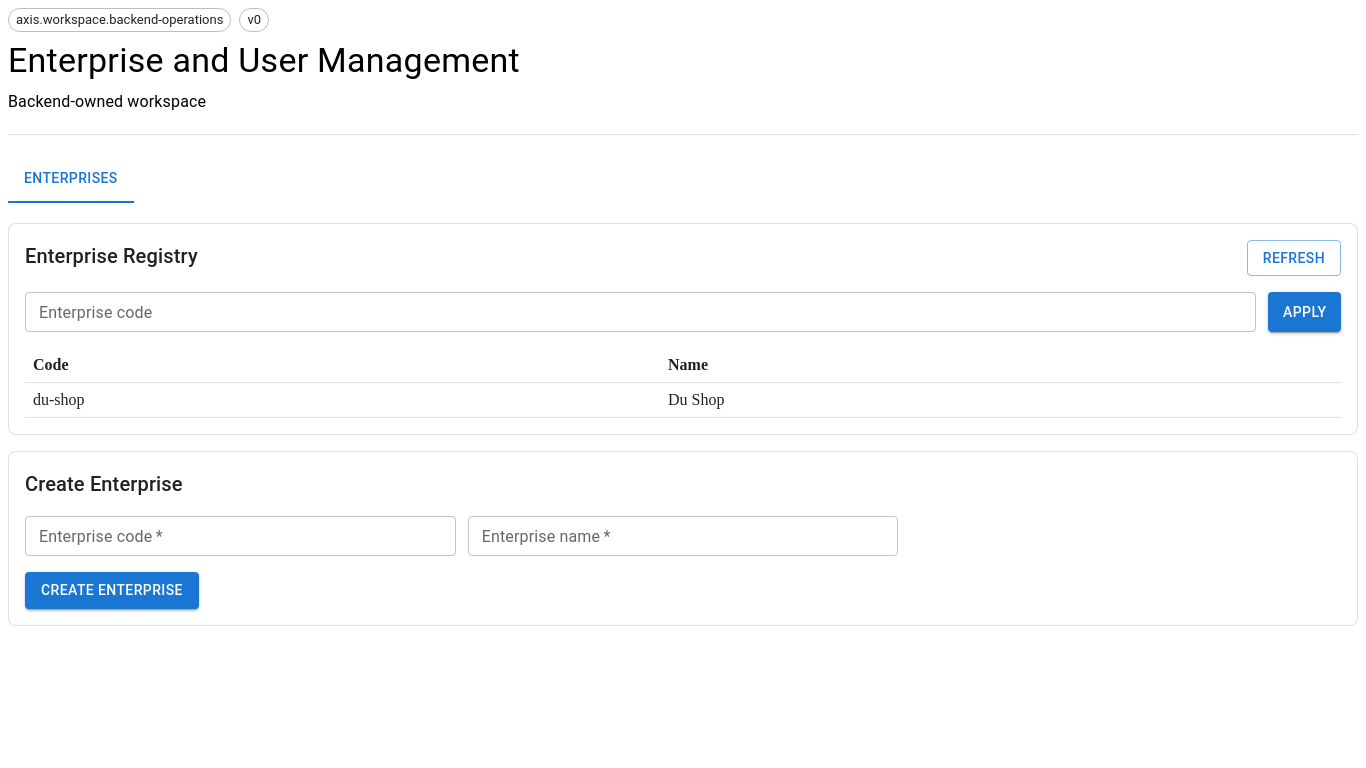
Scenario: BackendOperationsWorkspaceRoutePage › renders backend-provided listings and posts backend-provided forms
The image size is (1366, 768).
Expected: the text "Du Shop" is shown, [660,383,1341,418]
Expected: the heading "Create Enterprise" is shown, [25,472,183,496]
Click the button "Create enterprise" at [112, 591], box [25,572,199,609]
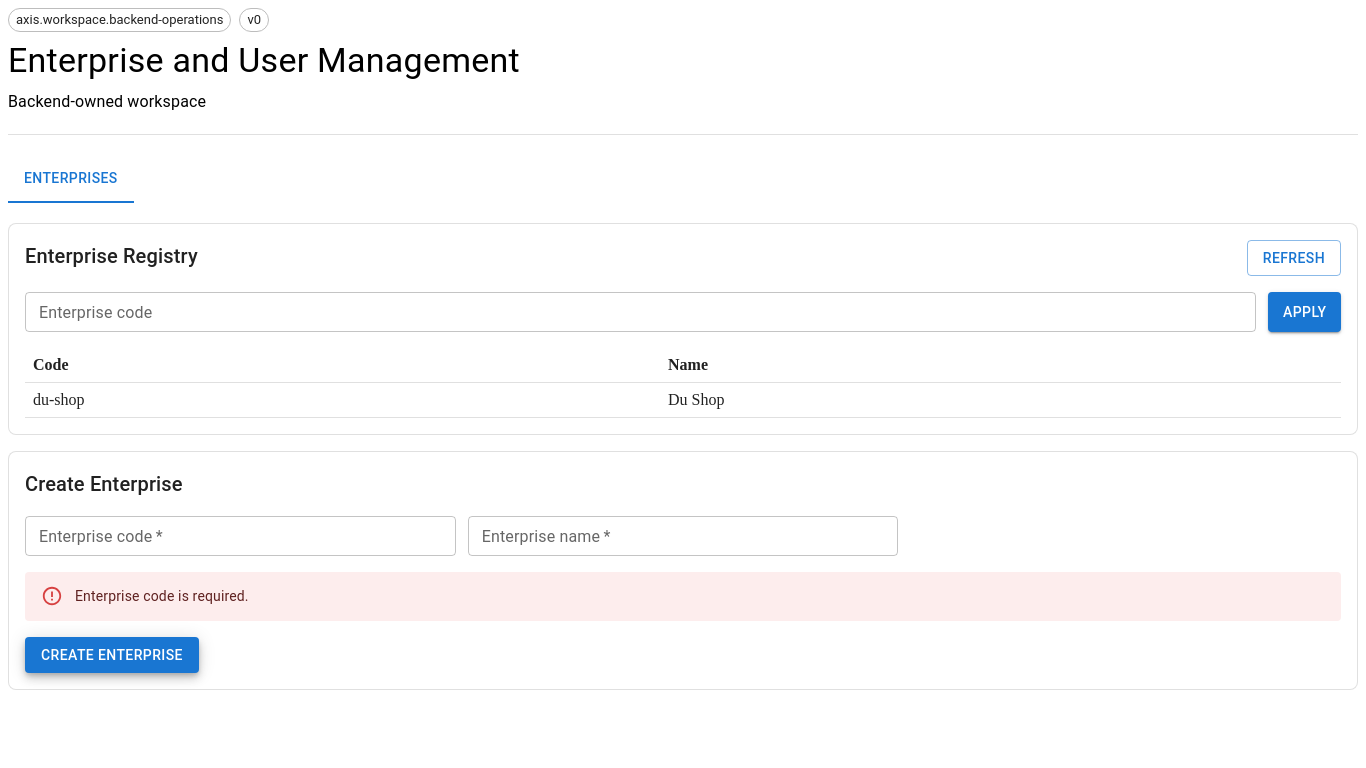
Now the text "Enterprise code is required." is shown, box [75,588,249,604]
Type "i2e" into the field labelled "Enterprise code" at [240, 536], box [25,516,456,556]
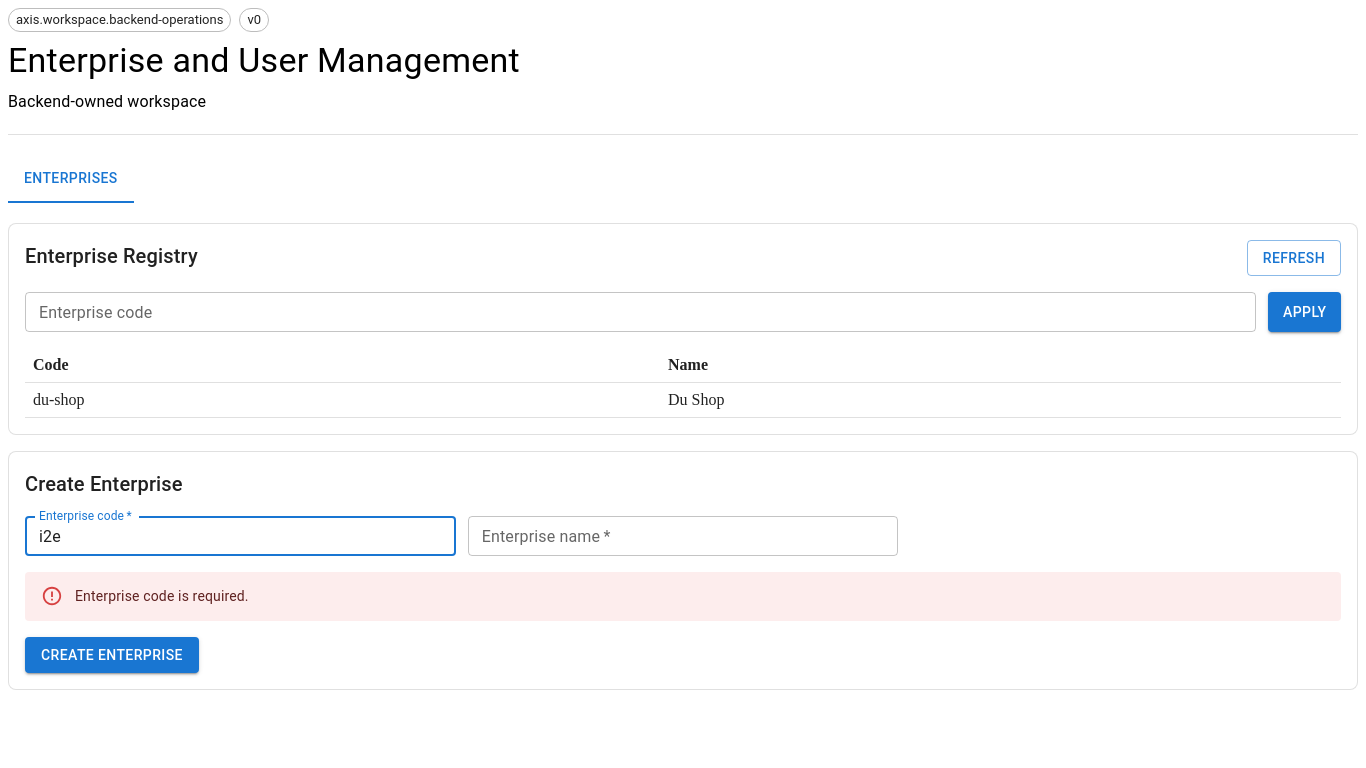
Type "I2E" into the field labelled "Enterprise name *" at [683, 536], box [468,516,898,556]
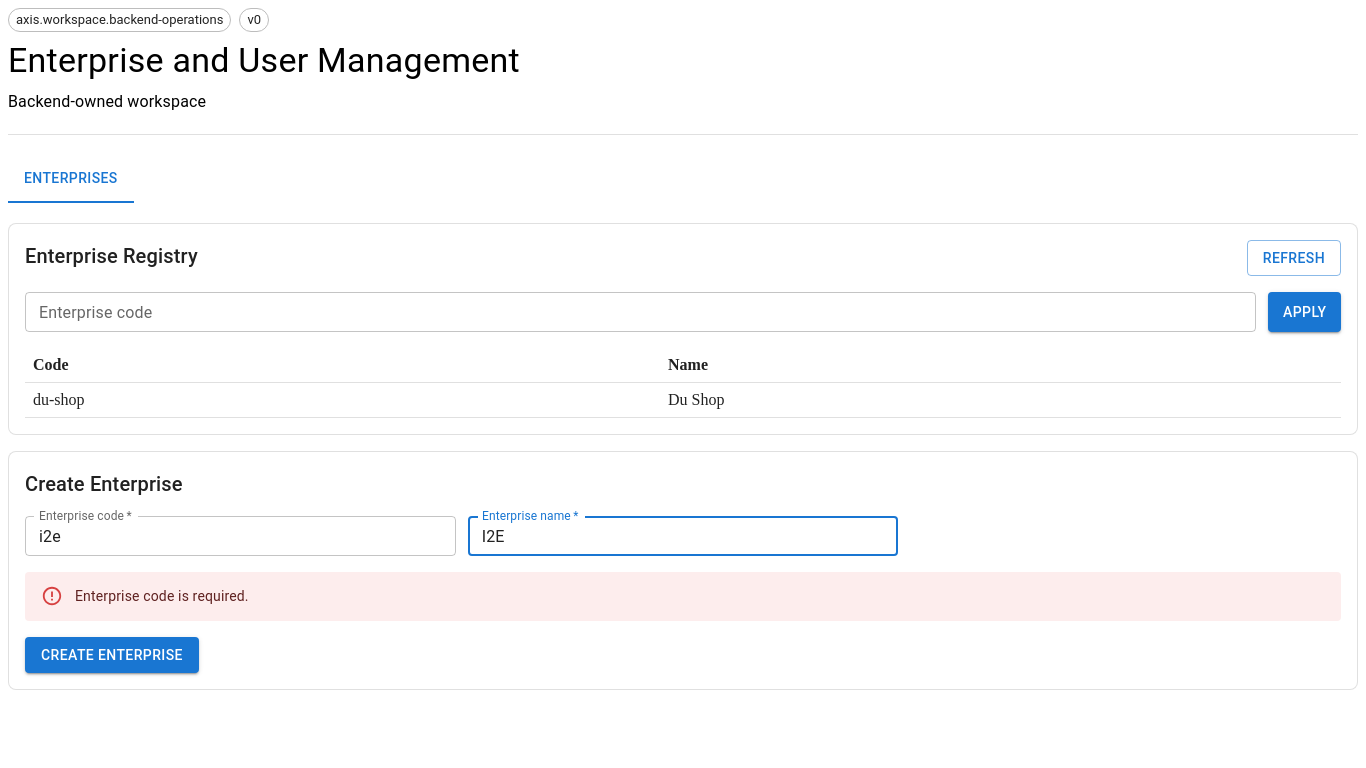
Click the button "Create enterprise" at [112, 655], box [25,636,199,673]
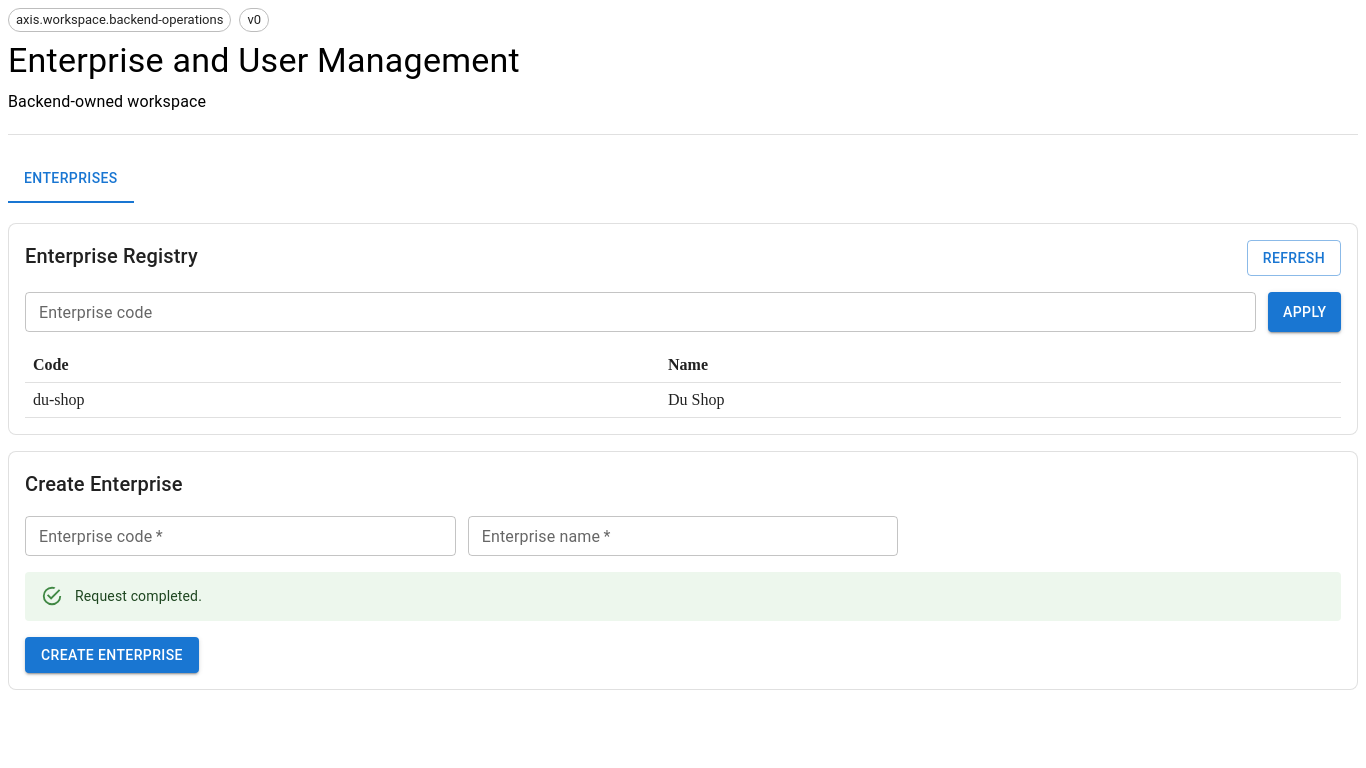
Now the text "Request completed." is shown, box [75,588,202,604]
